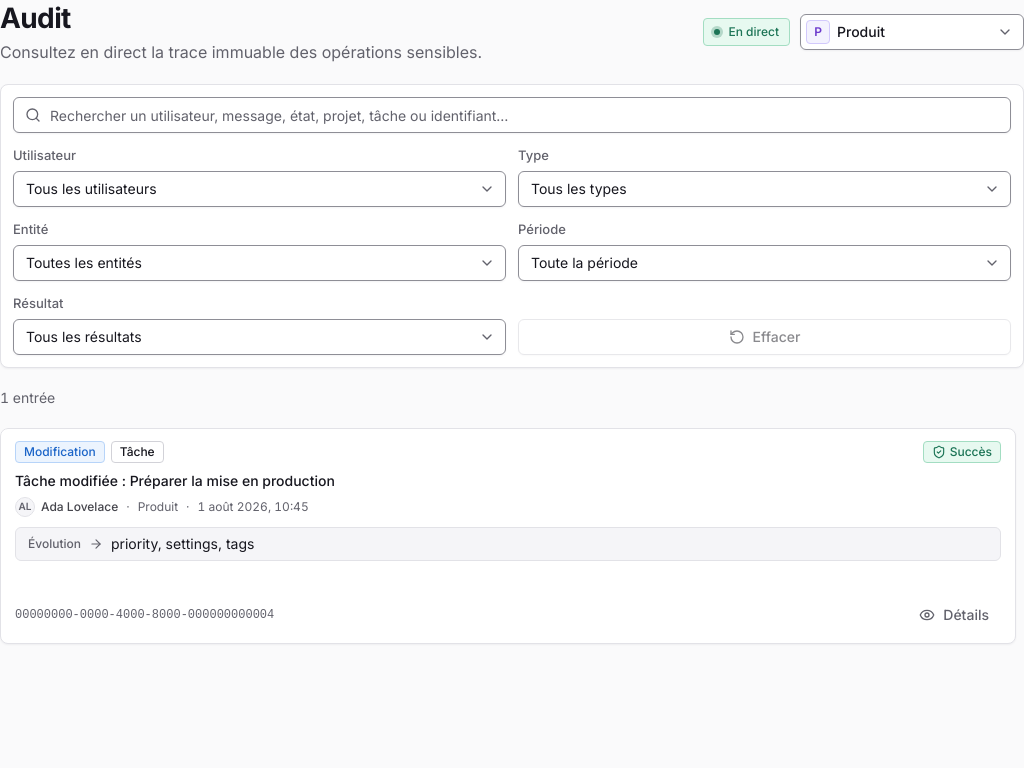
Test: AuditPage › loads history, opens details and connects live
Expected: the heading "Tâche modifiée : Préparer la mise en production" is shown, [15,472,335,489]
Expected: the text "En direct" is shown, [703,18,790,46]
Click the button "Détails". click: (954, 615)
box: [907,599,1001,631]
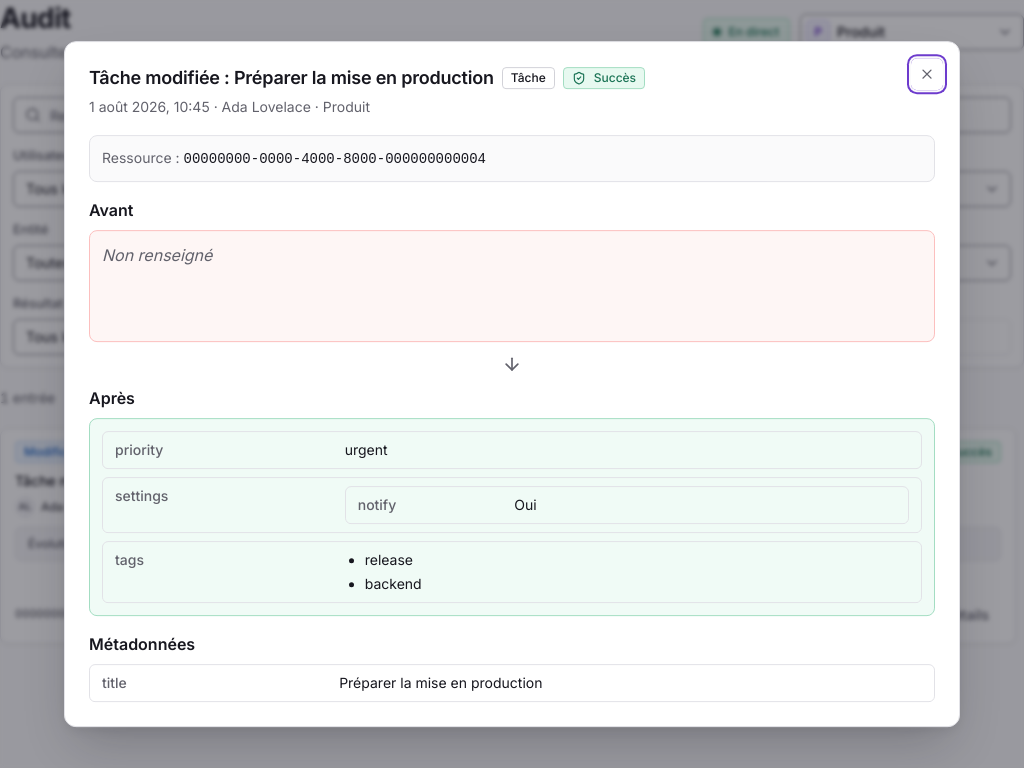
Now the dialog "Tâche modifiée : Préparer la mise en production" is shown
